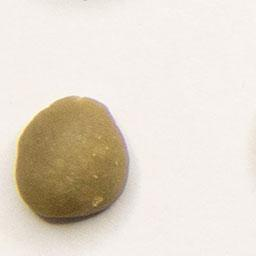premium: (13, 91, 134, 225)
